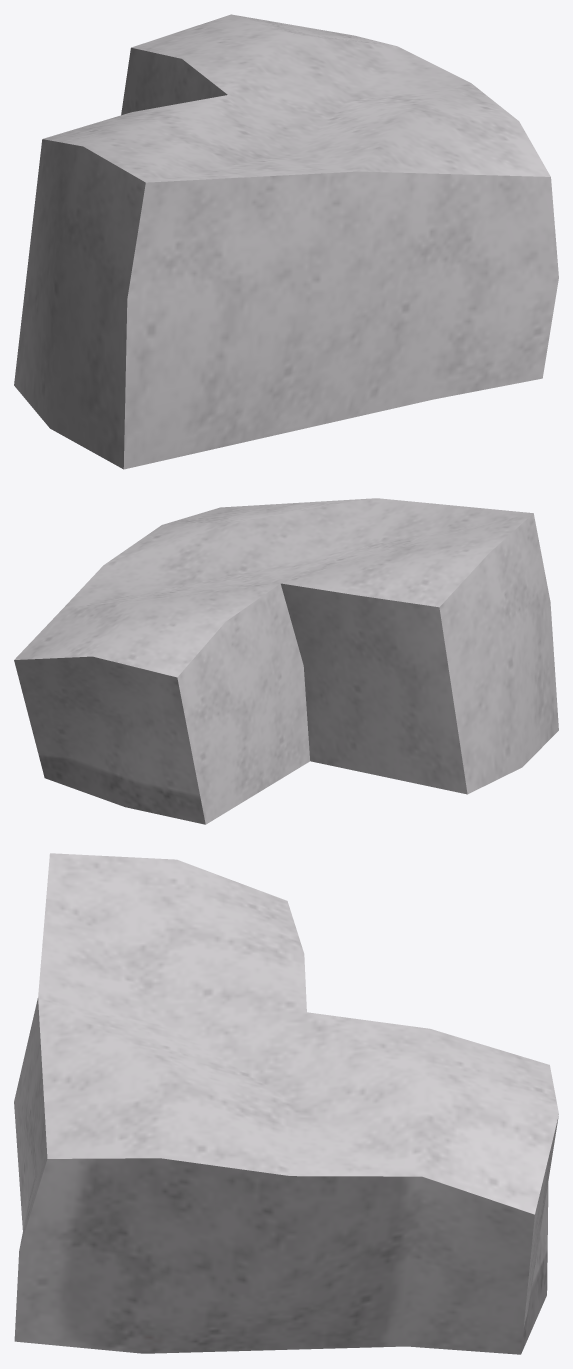
File: ob-bigstone01_lod_01.glb
The picture shows the model from 3 angles, top to bottom: view 1: azimuth 30°, elevation 25°; view 2: azimuth 150°, elevation 25°; view 3: azimuth 270°, elevation 25°; orthographic projection. The views are drawn at different scales.
Parts seen in each view (by area): view 1: Sphere01; view 2: Sphere01; view 3: Sphere01.
Part boxes in pixels (x1,y1,x2,y2): Sphere01: [14, 14, 558, 469]; Sphere01: [14, 498, 558, 824]; Sphere01: [14, 853, 558, 1354].
Size of the model in its own units: 7.09 by 3.9 by 6.6.
Materials: 1 (1 with a texture image).
